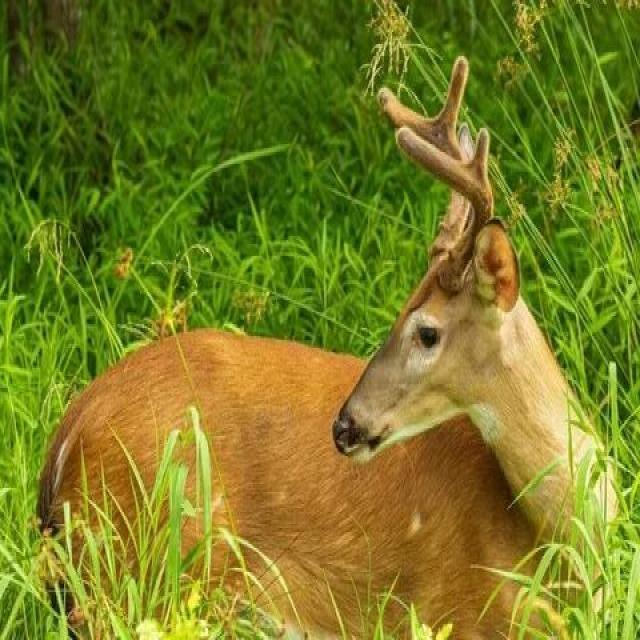deer: (67, 125, 640, 640)
